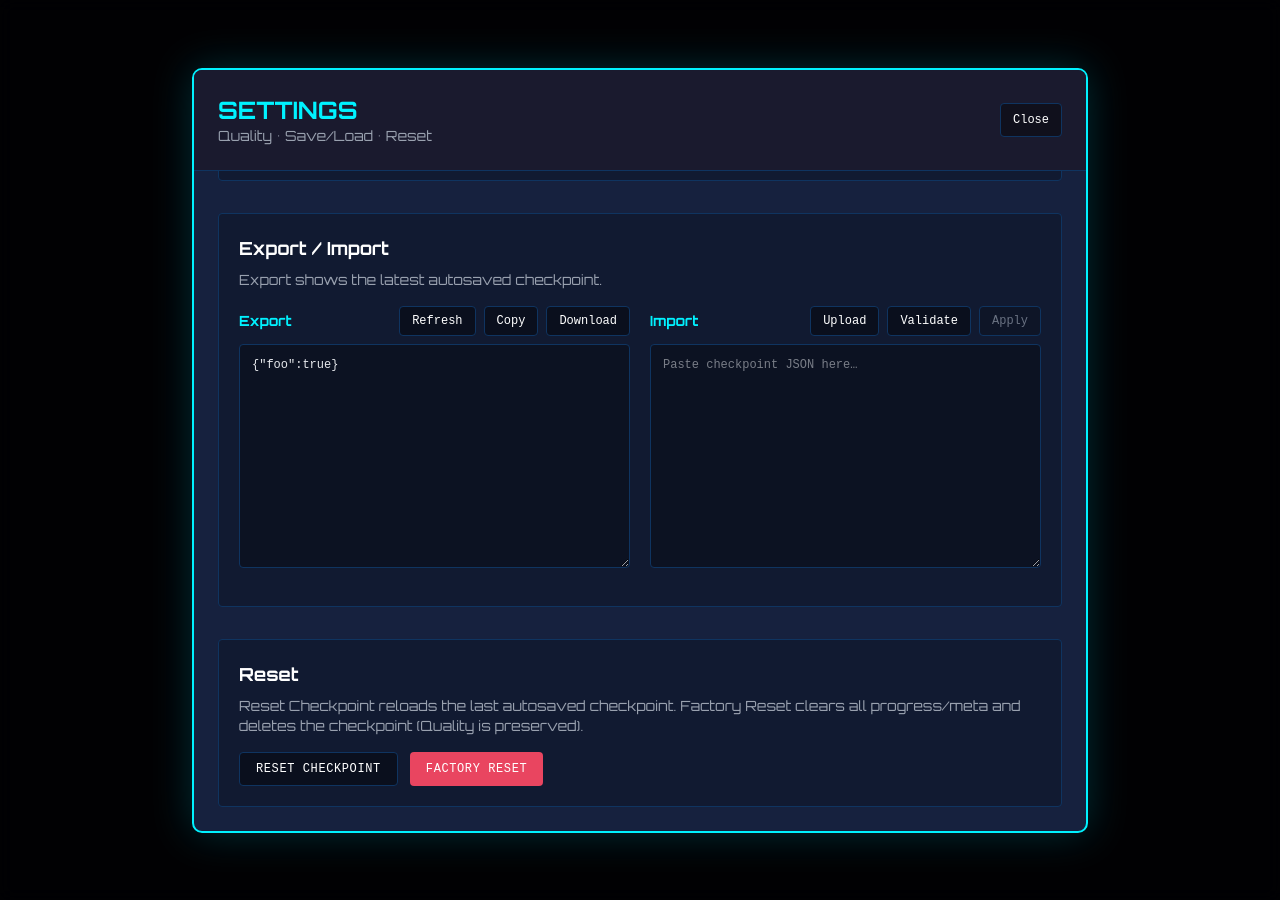
Test case: SettingsModal behavior › reset & factory › shows reset error when resetCheckpoint returns error
(page scrolled)
Click the button "Reset Checkpoint".
click(318, 768)  # box [239,752,398,786]
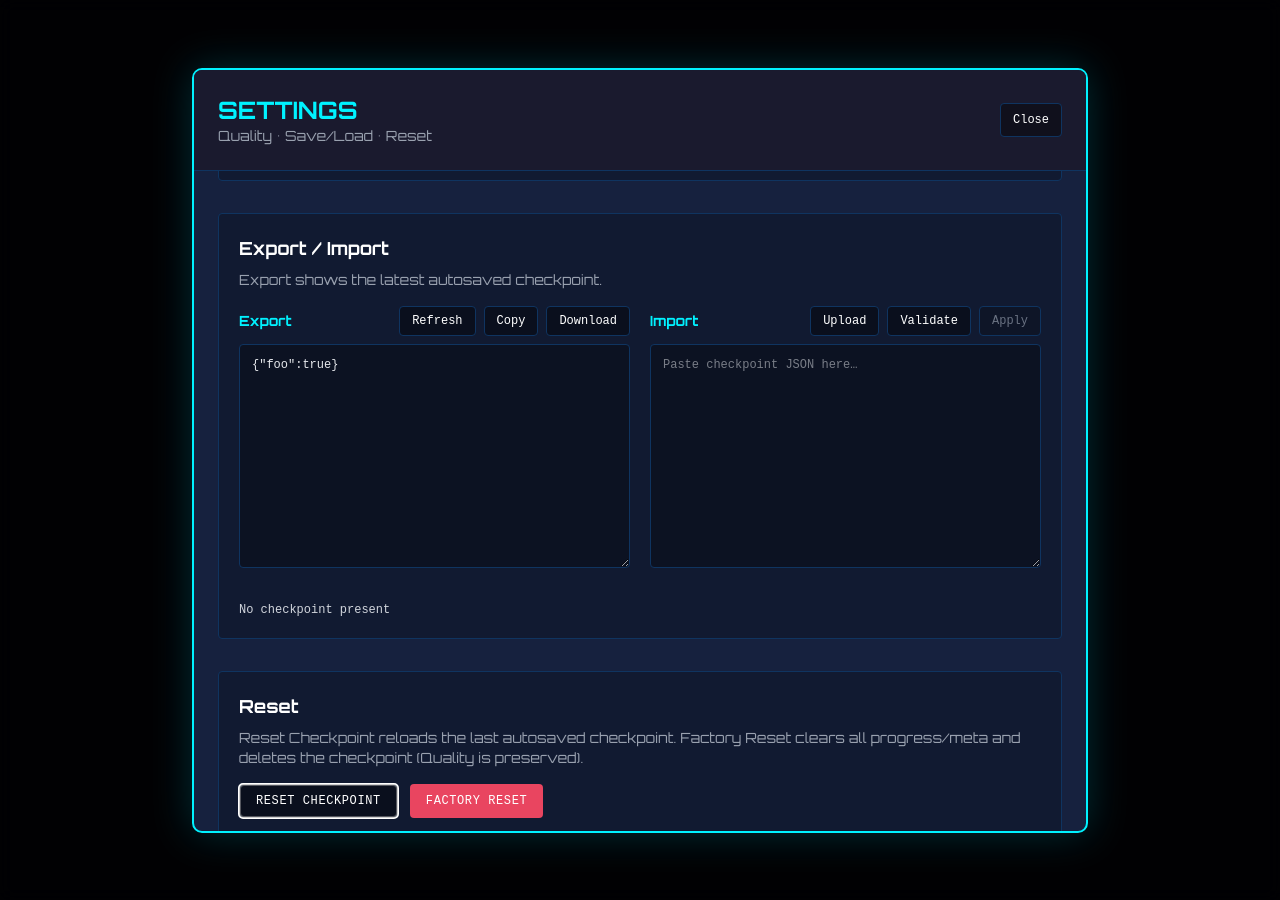
Result: the text "No checkpoint present" is shown at [239,602,390,616]
